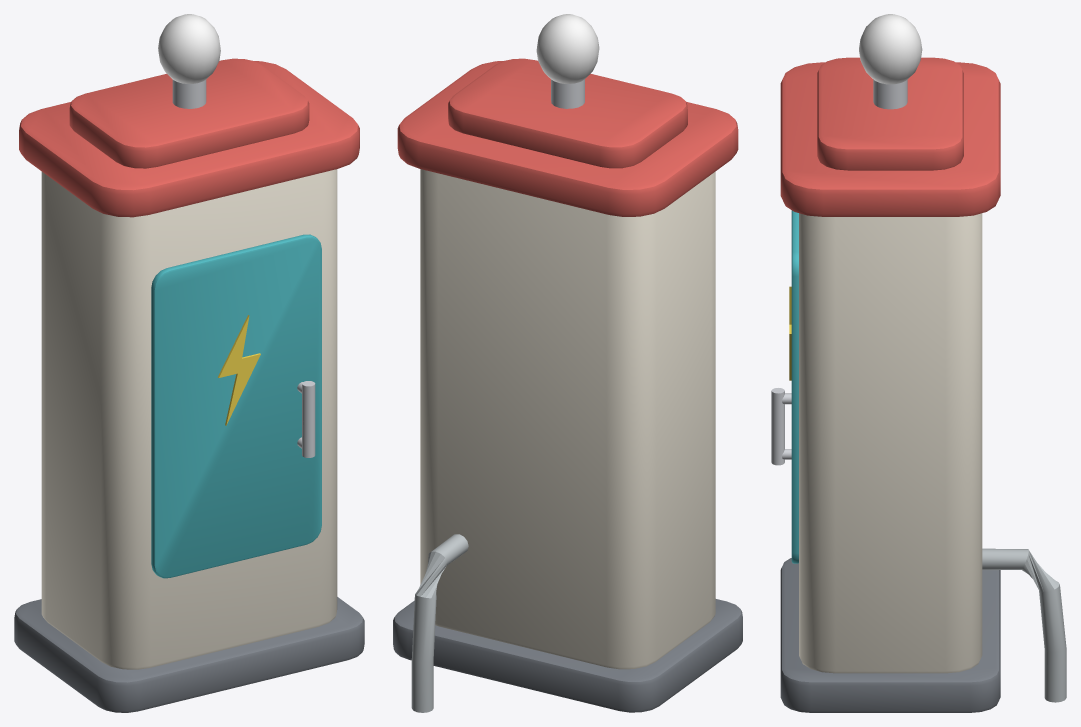
File: SM_IncDecoBox.fbx
3 views of the same model, side by side, from view 1: azimuth 30°, elevation 25°; view 2: azimuth 150°, elevation 25°; view 3: azimuth 270°, elevation 25° (orthographic).
Parts seen in each view (by area): view 1: IncDecoBox, DecoLed; view 2: IncDecoBox, DecoLed; view 3: IncDecoBox, DecoLed.
Part boxes in pixels (bbox=[...]): IncDecoBox: bbox=[14, 58, 364, 712]; DecoLed: bbox=[158, 14, 220, 83]; IncDecoBox: bbox=[393, 58, 742, 712]; DecoLed: bbox=[536, 14, 599, 83]; IncDecoBox: bbox=[771, 57, 1066, 712]; DecoLed: bbox=[859, 14, 922, 84].
Bounding box in the file's own units: 0.5 × 1.17 × 0.483.
